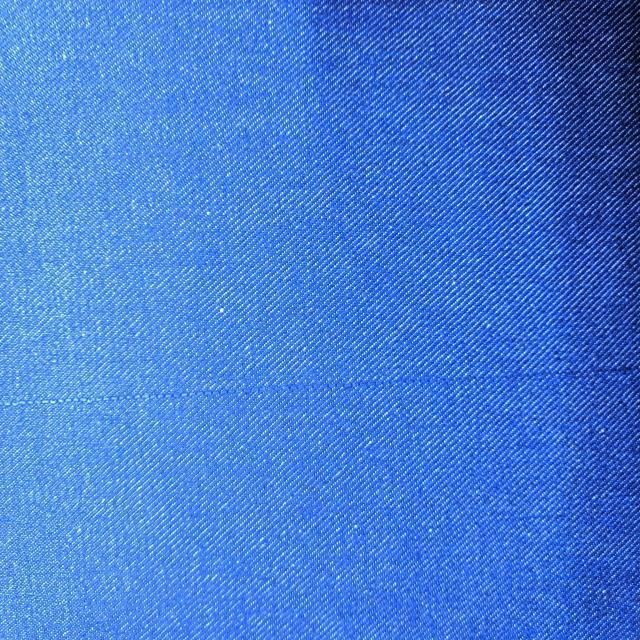Line: (3, 362, 640, 413)
